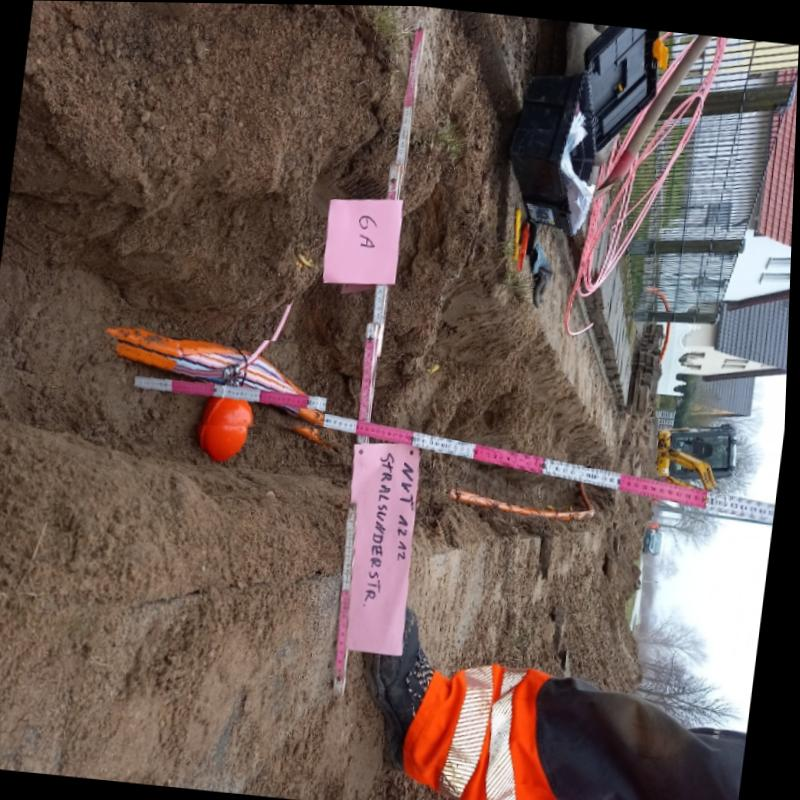Kugelmarker: (200, 403, 251, 458)
Orang-Speednetrohrchen: (118, 325, 328, 431)
